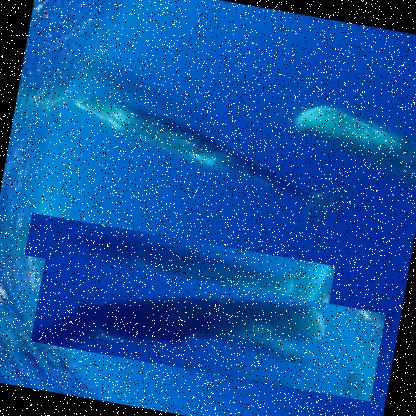blue_whale: (31, 252, 387, 402), (52, 80, 353, 228), (24, 212, 336, 309)
